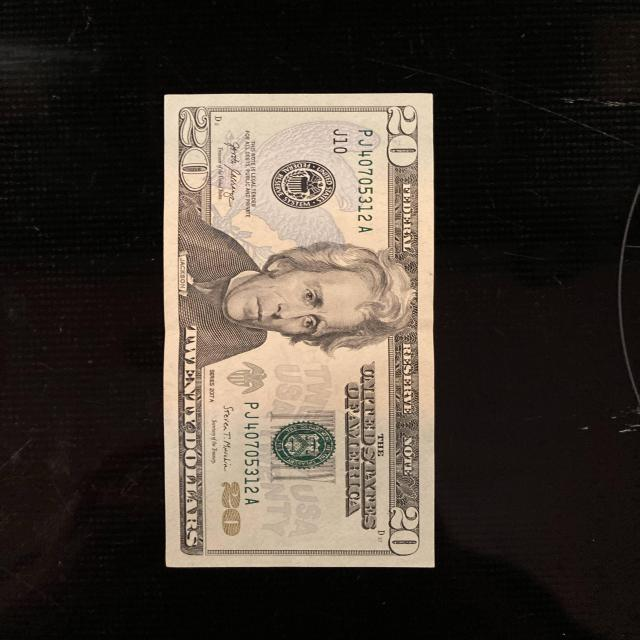twenty: (164, 93, 438, 569)
